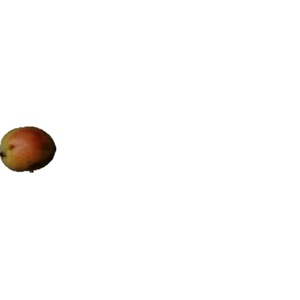mamão: (3, 113, 60, 176)
